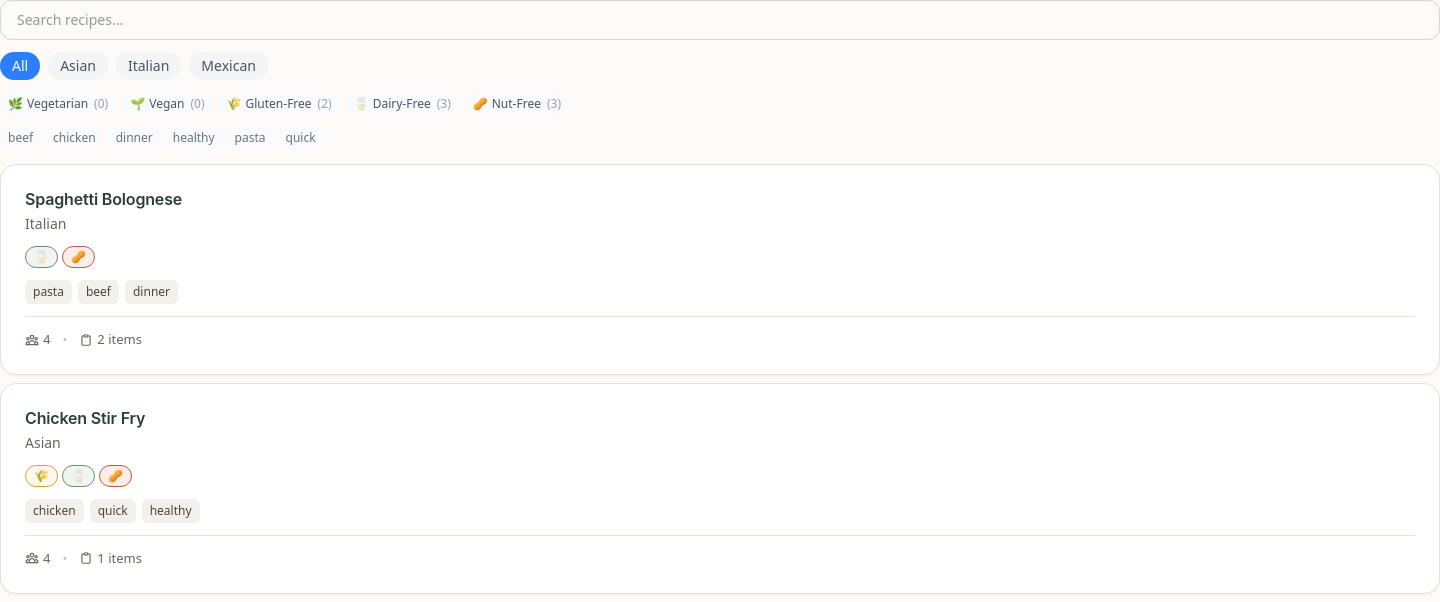
Test: RecipeList › toggles cuisine filter on second click
Note: First click - filter
Click the button "Italian". click: (149, 66)
box: [116, 52, 181, 80]
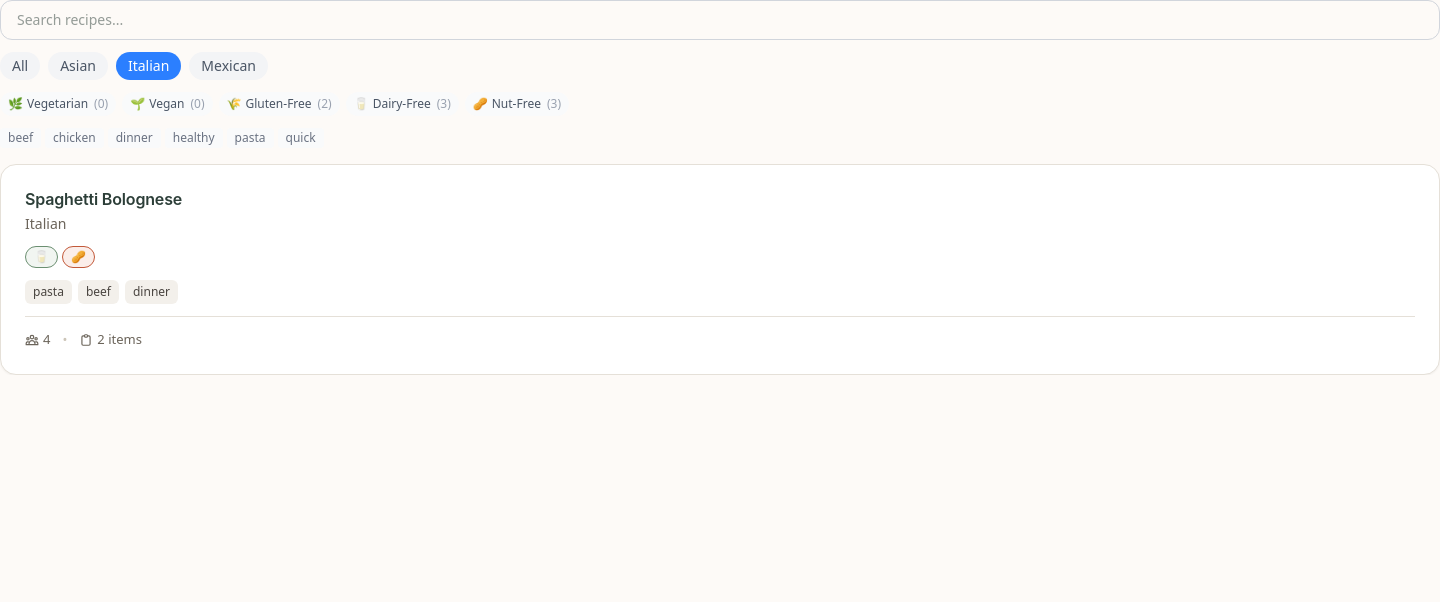
expect the button "Chicken Stir Fry" is gone: met
Note: Second click - clear filter
Click the button "Italian". click: (149, 66)
box: [116, 52, 181, 80]
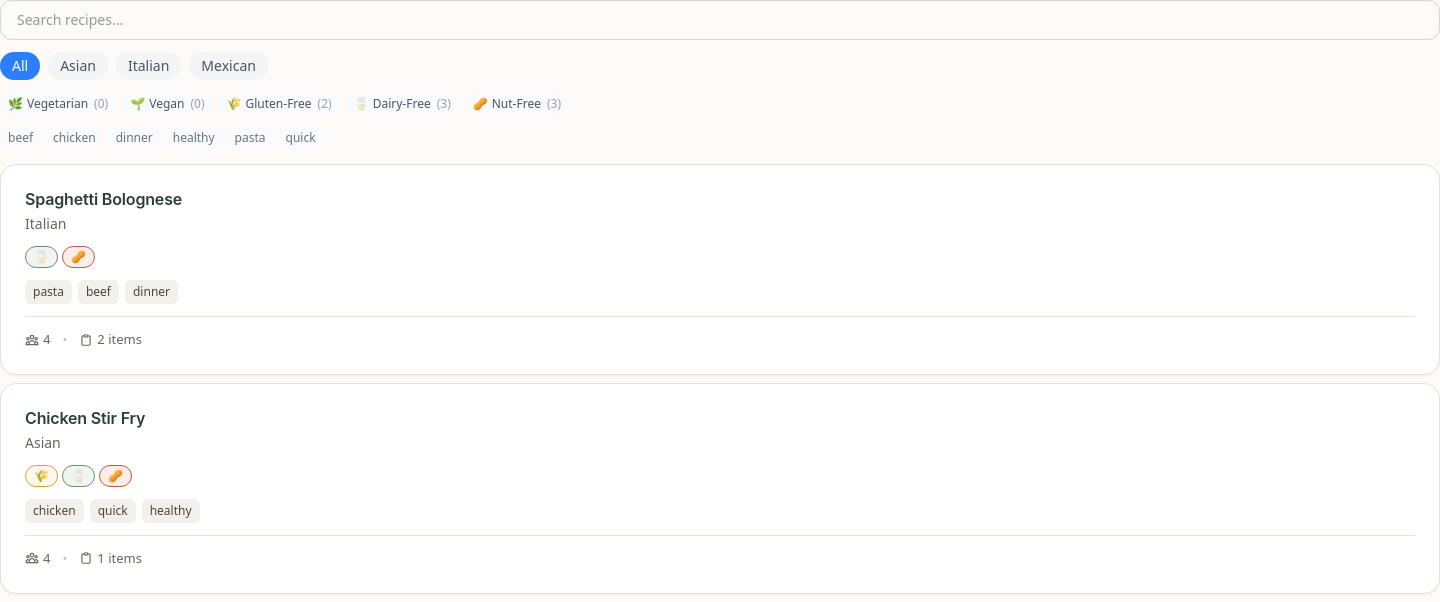
expect the heading "Chicken Stir Fry" is shown: met, box [25, 408, 145, 428]
